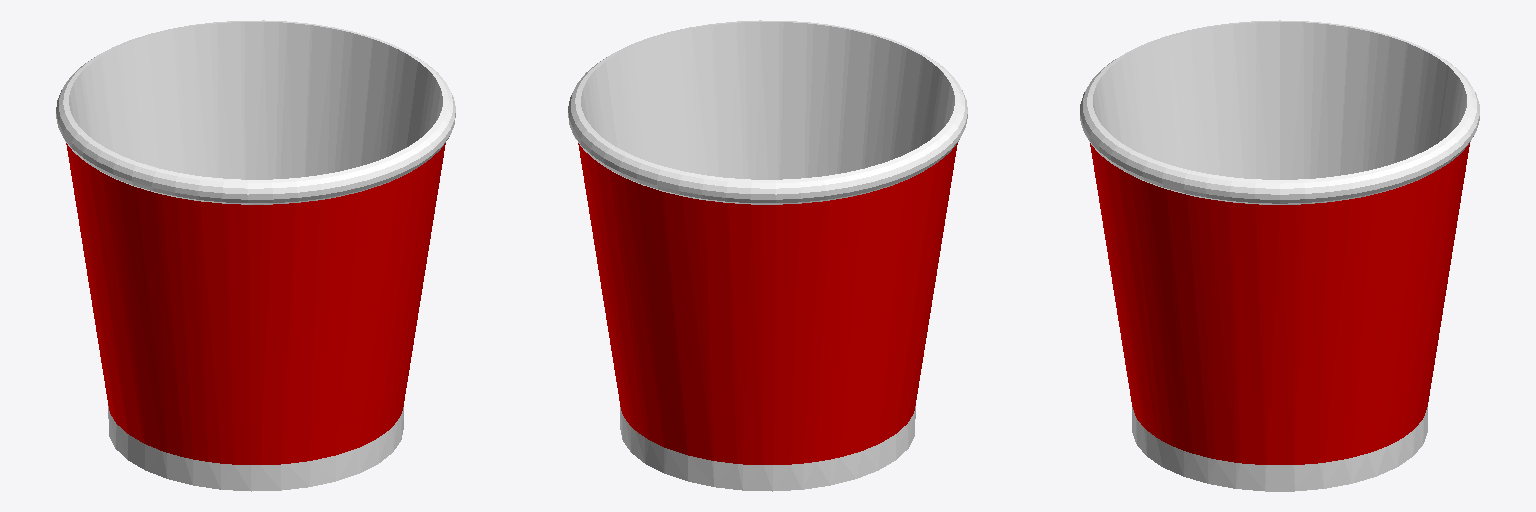
The robot description file, URDF, robot "paper_cup":
<?xml version="1.0"?>
<robot name="paper_cup">
    <link name="world"/>
    <link name="red_paper_cup_link">
    <inertial>
      <origin xyz="0 0 0" rpy="0 0 0" />
      <mass value="0.0101" />
      <inertia ixx="1.293E-06" ixy="0.0" ixz="0.0" iyy="1.293E-06" iyz="0.0" izz="2.545E-06" />
    </inertial>
    <visual>
      <origin xyz="0 0 0" rpy="0 0 0" />
      <geometry>
        <mesh filename="package://competition_world/models/meshes/red_paper_cup.dae" />
      </geometry>
    </visual>
    <collision>
      <origin xyz="0 0 0" rpy="0 0 0" />
      <geometry>
        <mesh filename="package://competition_world/models/meshes/red_paper_cup.dae" />
      </geometry>
    </collision>
  </link>
  <joint name="paper_cup_joint" type="fixed">
    <parent link="world"/>
    <child link="red_paper_cup_link"/>
    <origin xyz="0 0 0.0" rpy="0 0 0"/>
  </joint>
</robot>

--- What the picture shows (computed from the rendered views, not written in the file) ---
3 views of the same robot in one strip: view 1: azimuth 30°, elevation 25°; view 2: azimuth 150°, elevation 25°; view 3: azimuth 270°, elevation 25° (orthographic).
Model paper_cup with 2 links and 1 joints (1 fixed), rooted at world, posed all joints at 0.
Links seen in each view (by area): view 1: red_paper_cup_link; view 2: red_paper_cup_link; view 3: red_paper_cup_link.
Link boxes in pixels (x1=…): red_paper_cup_link: x1=56, y1=20, x2=455, y2=491; red_paper_cup_link: x1=568, y1=20, x2=967, y2=491; red_paper_cup_link: x1=1080, y1=20, x2=1479, y2=491.
Size in the robot's own frame: 0.0662 by 0.0661 by 0.06 metres.
Meshes: 1 distinct files referenced, 1 mesh visuals loaded (1 Collada DAE).